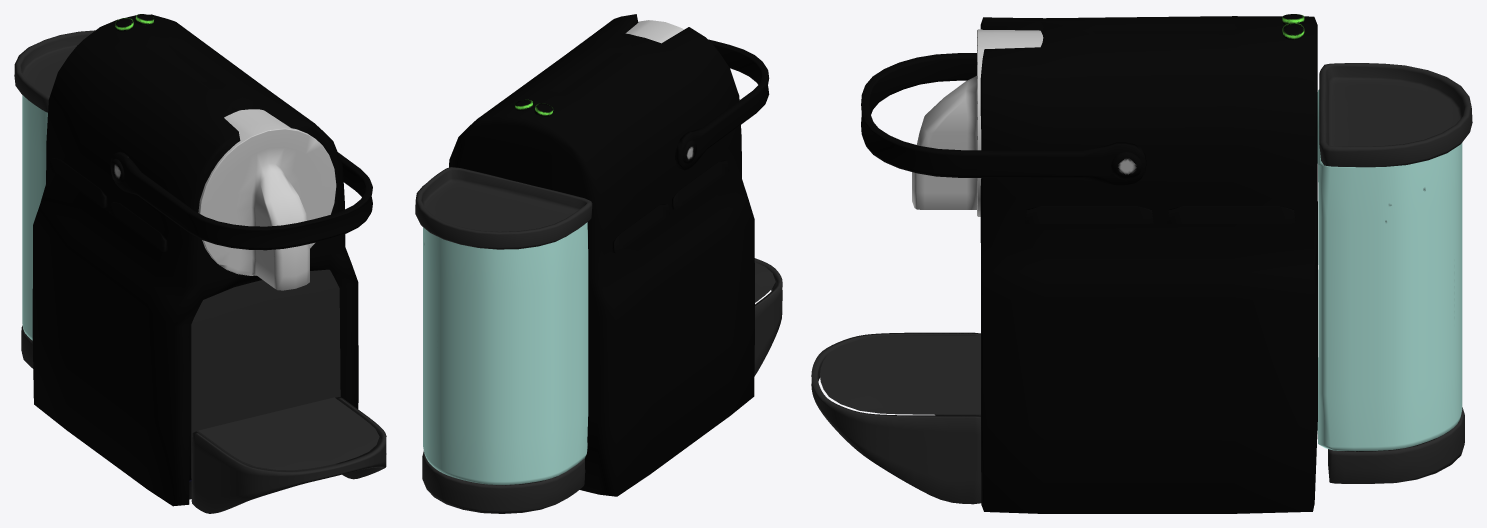
File: inissia2_1.fbx
3 renders of one model, left to right at view 1: azimuth 30°, elevation 25°; view 2: azimuth 150°, elevation 25°; view 3: azimuth 270°, elevation 25°, orthographic. The views are drawn at different scales.
Visible parts, largest first — view 1: inissia2_1, inissia2_3, inissia2_2; view 2: inissia2_1, inissia2_2, inissia2_3; view 3: inissia2_1, inissia2_2, inissia2_3.
Boxes of the visible parts, <box> form: inissia2_1: <box>14,14,386,513</box>; inissia2_3: <box>198,109,336,290</box>; inissia2_2: <box>110,151,372,250</box>; inissia2_1: <box>415,14,782,513</box>; inissia2_2: <box>675,39,769,170</box>; inissia2_3: <box>625,20,683,43</box>; inissia2_1: <box>811,14,1472,513</box>; inissia2_2: <box>861,53,1146,185</box>; inissia2_3: <box>912,29,1043,216</box>.
Size of the model in its own units: 4.94 by 9.43 by 12.76.
